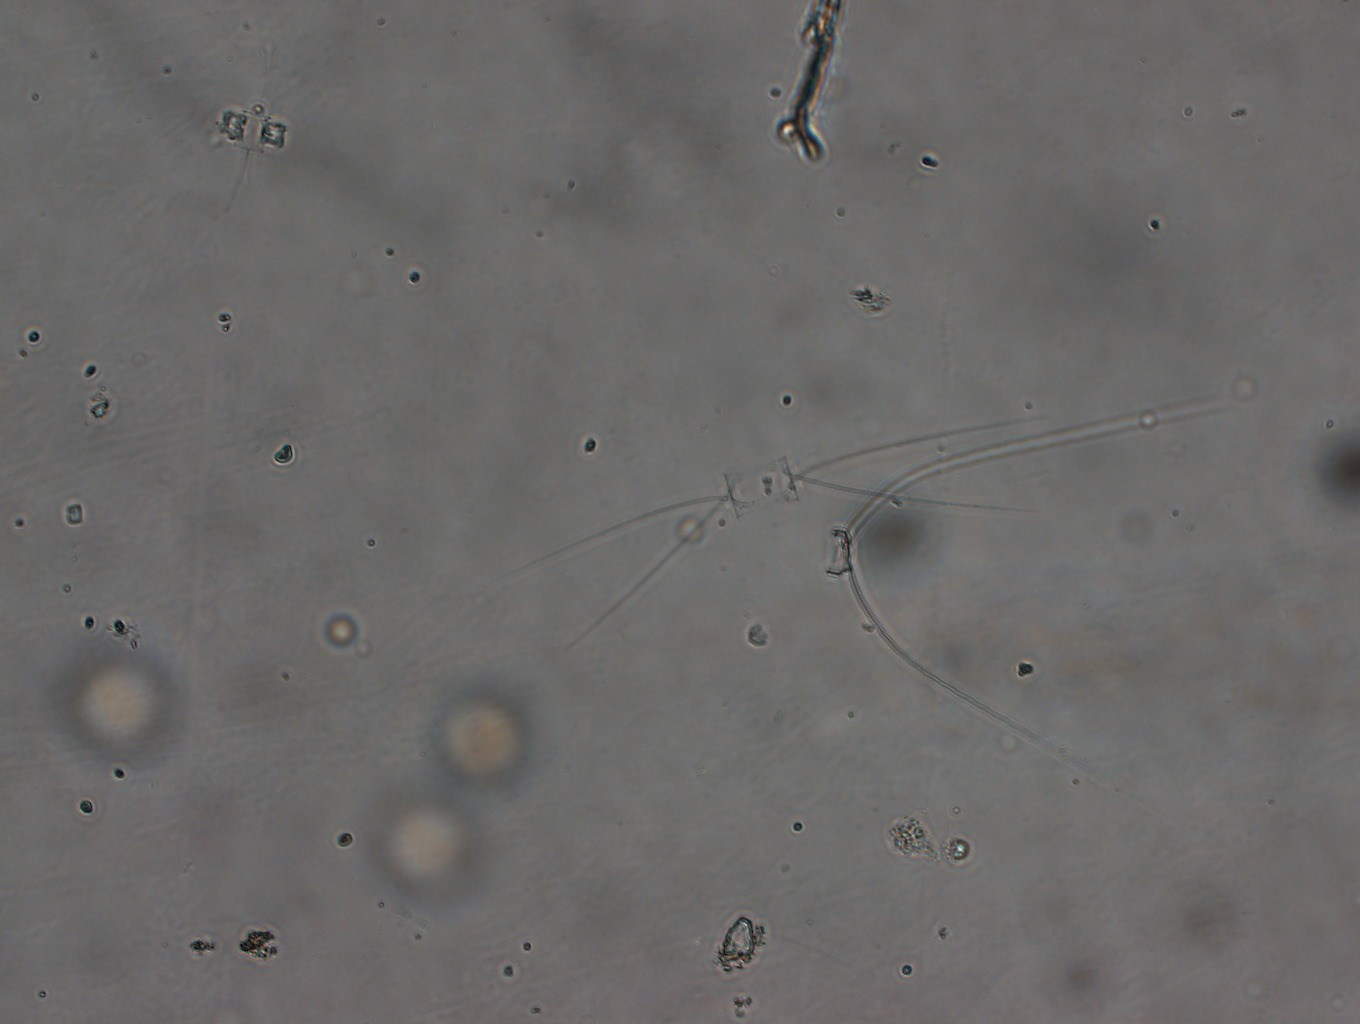chaetoceros: (496, 414, 1053, 652)
